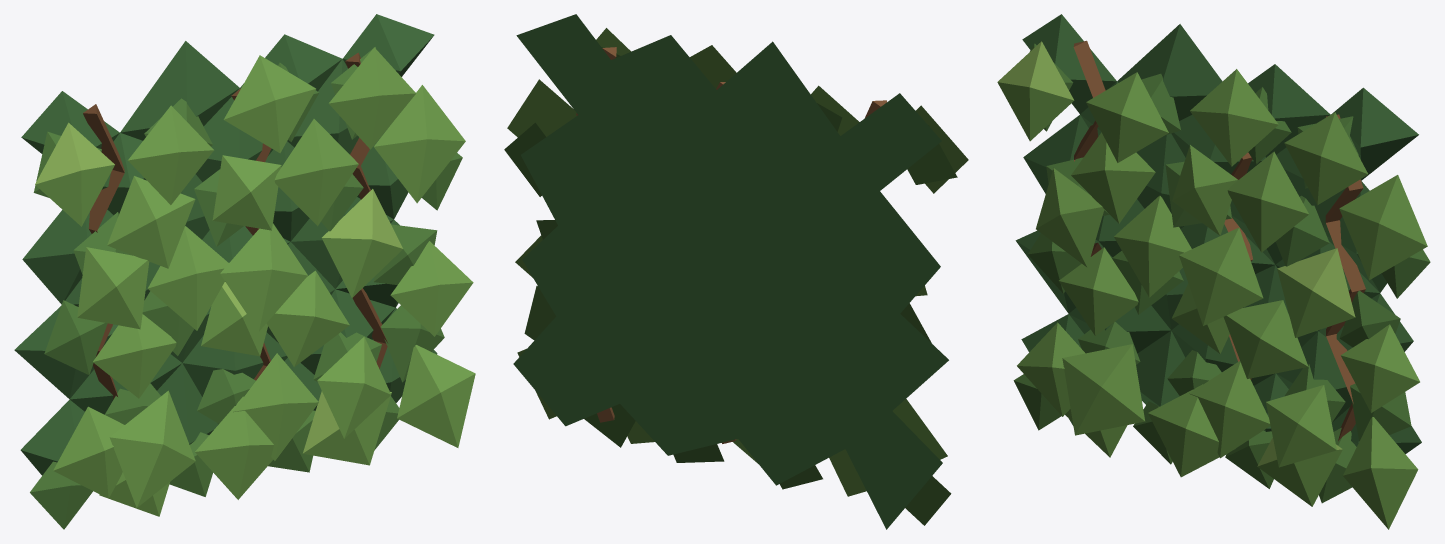
File: FMS_Garden_Ivy_Patch.fbx
3 renders of one model, left to right at view 1: azimuth 30°, elevation 25°; view 2: azimuth 150°, elevation 25°; view 3: azimuth 330°, elevation 25°, orthographic. The views are drawn at different scales.
Visible parts, largest first — view 1: FMS_Garden_Ivy_Patch_Body; view 2: FMS_Garden_Ivy_Patch_Body; view 3: FMS_Garden_Ivy_Patch_Body.
Part boxes in pixels (<box>): FMS_Garden_Ivy_Patch_Body: <box>14,14,475,529</box>; FMS_Garden_Ivy_Patch_Body: <box>504,14,968,529</box>; FMS_Garden_Ivy_Patch_Body: <box>997,14,1430,529</box>.
Size of the model in its own units: 1.04 by 1.01 by 0.1239.
